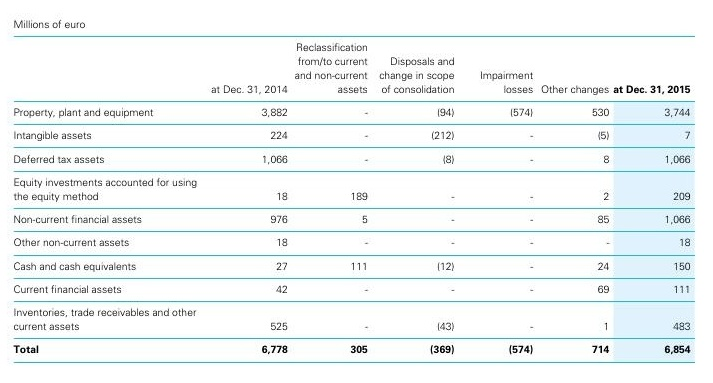table: (0, 0, 713, 383)
